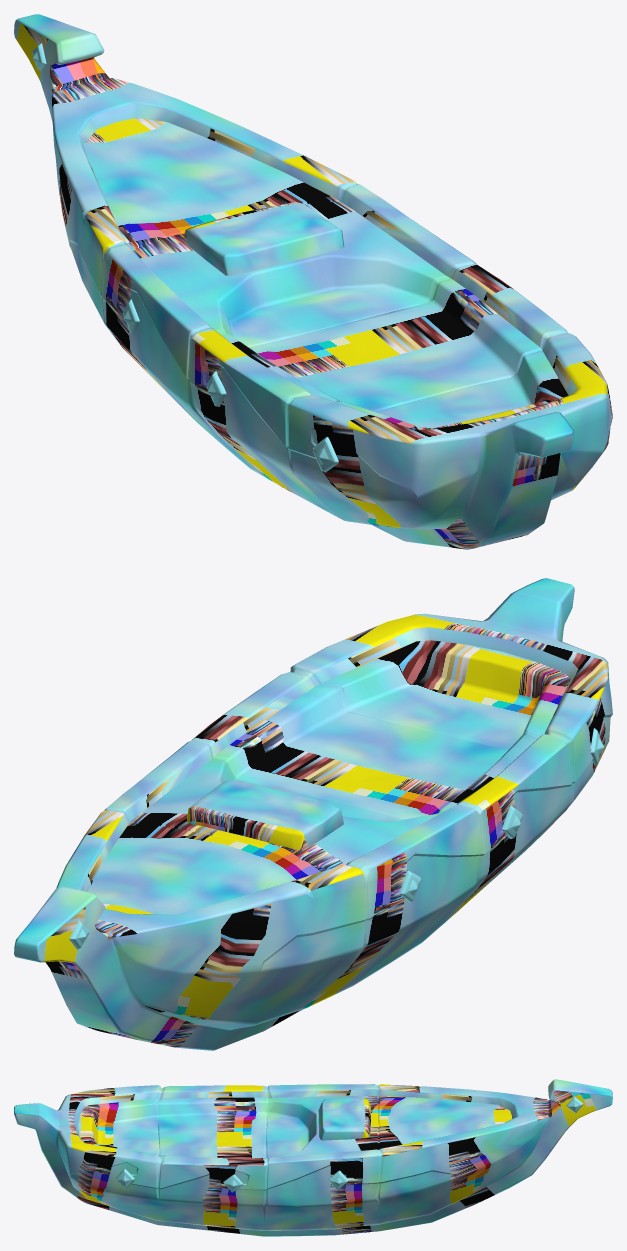
Rendered from Prop_AP32PearlBoat03.glb.
3 renders of one model, top to bottom at view 1: azimuth 30°, elevation 25°; view 2: azimuth 150°, elevation 25°; view 3: azimuth 270°, elevation 25°, orthographic. The views are drawn at different scales.
Visible parts, largest first — view 1: Prop_AP32PearlBoat03; view 2: Prop_AP32PearlBoat03; view 3: Prop_AP32PearlBoat03.
Boxes of the visible parts, x1,y1,x2,y2 form: Prop_AP32PearlBoat03: (14, 14, 612, 549); Prop_AP32PearlBoat03: (14, 578, 612, 1050); Prop_AP32PearlBoat03: (14, 1079, 612, 1236).
Bounding box in the file's own units: 3.94 × 3.16 × 11.79.
1 material, 1 textured.
